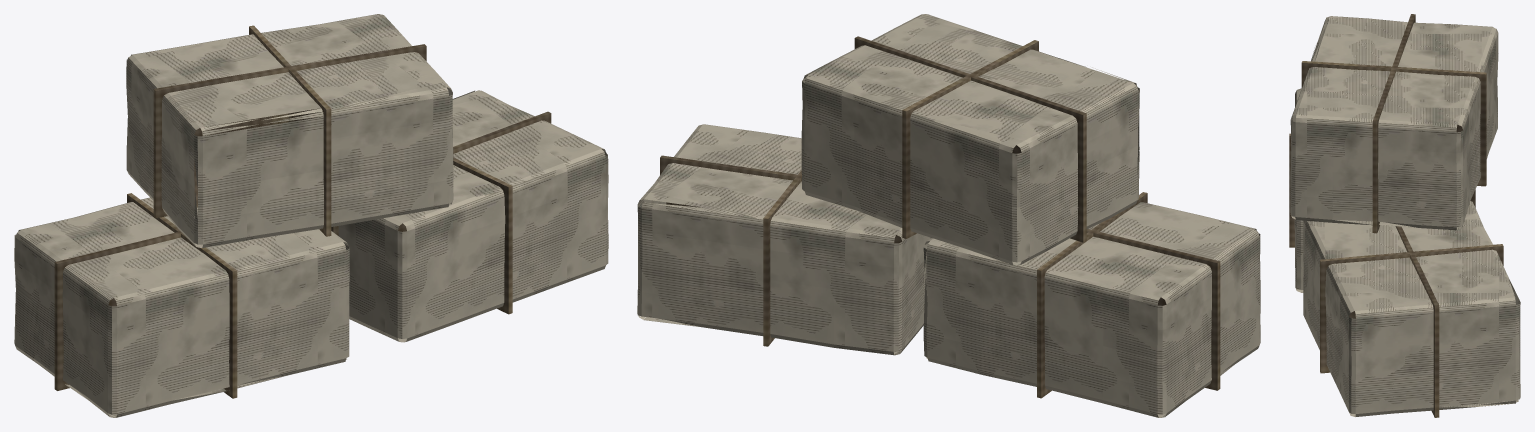
Rendered from W36_NewspaperBundles.glb.
The picture shows the model from 3 angles, left to right: view 1: azimuth 30°, elevation 25°; view 2: azimuth 150°, elevation 25°; view 3: azimuth 270°, elevation 25°; orthographic projection. The views are drawn at different scales.
Parts seen in each view (by area): view 1: W36_NewspaperBundles; view 2: W36_NewspaperBundles; view 3: W36_NewspaperBundles.
Boxes of the visible parts, x1,y1,x2,y2 form: W36_NewspaperBundles: (14, 14, 608, 417); W36_NewspaperBundles: (637, 14, 1260, 417); W36_NewspaperBundles: (1289, 14, 1520, 417).
Bounding box in the file's own units: 0.5 × 0.2311 × 0.2124.
Materials: 2 (2 with a texture image).
